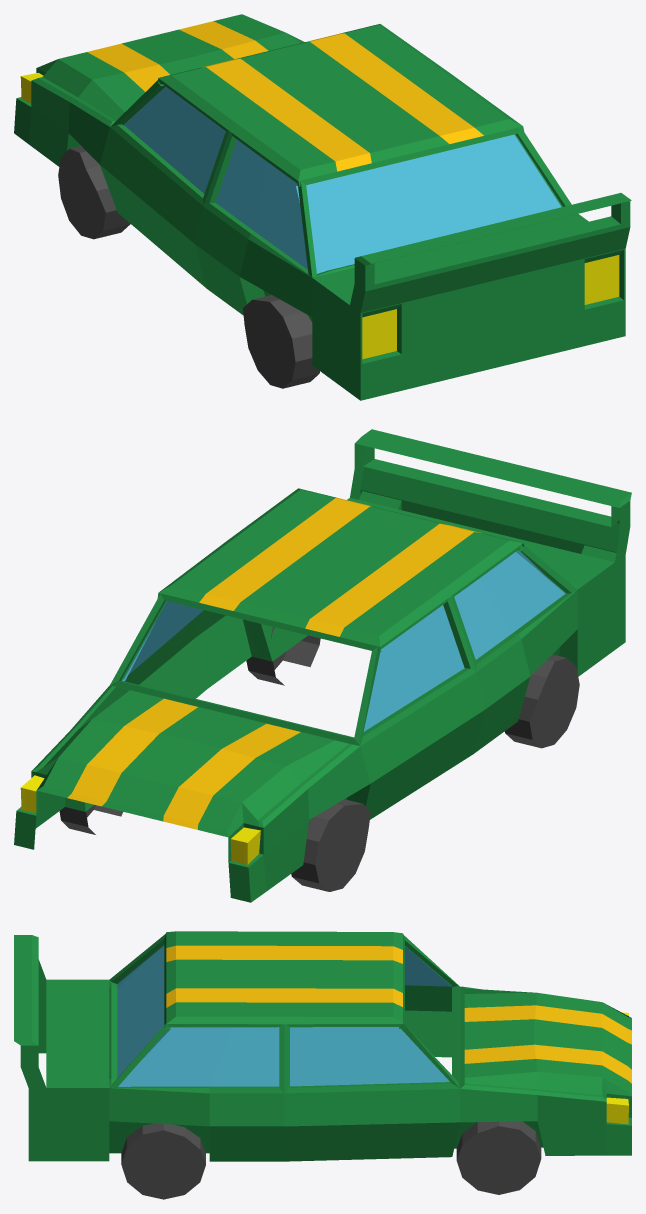
Rendered from PlayerCar_Green.fbx.
3 views of the same model, one above another, from view 1: azimuth 30°, elevation 25°; view 2: azimuth 150°, elevation 25°; view 3: azimuth 270°, elevation 25° (orthographic). The views are drawn at different scales.
Visible parts, largest first — view 1: Cube.002; view 2: Cube.002; view 3: Cube.002.
Part boxes in pixels (box(x1,y1,x2,y2)): Cube.002: box(14, 14, 631, 400); Cube.002: box(14, 429, 631, 902); Cube.002: box(14, 931, 631, 1199).
Size of the model in its own units: 179 by 116 by 388.
